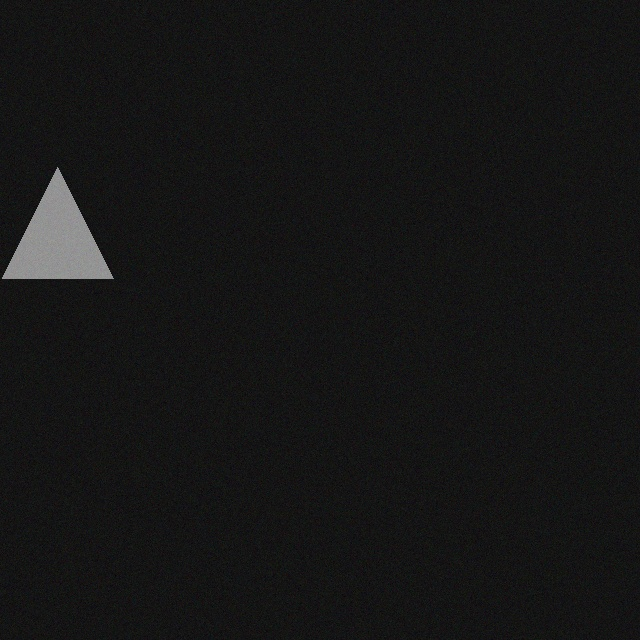triangle: (16, 178, 127, 289)
